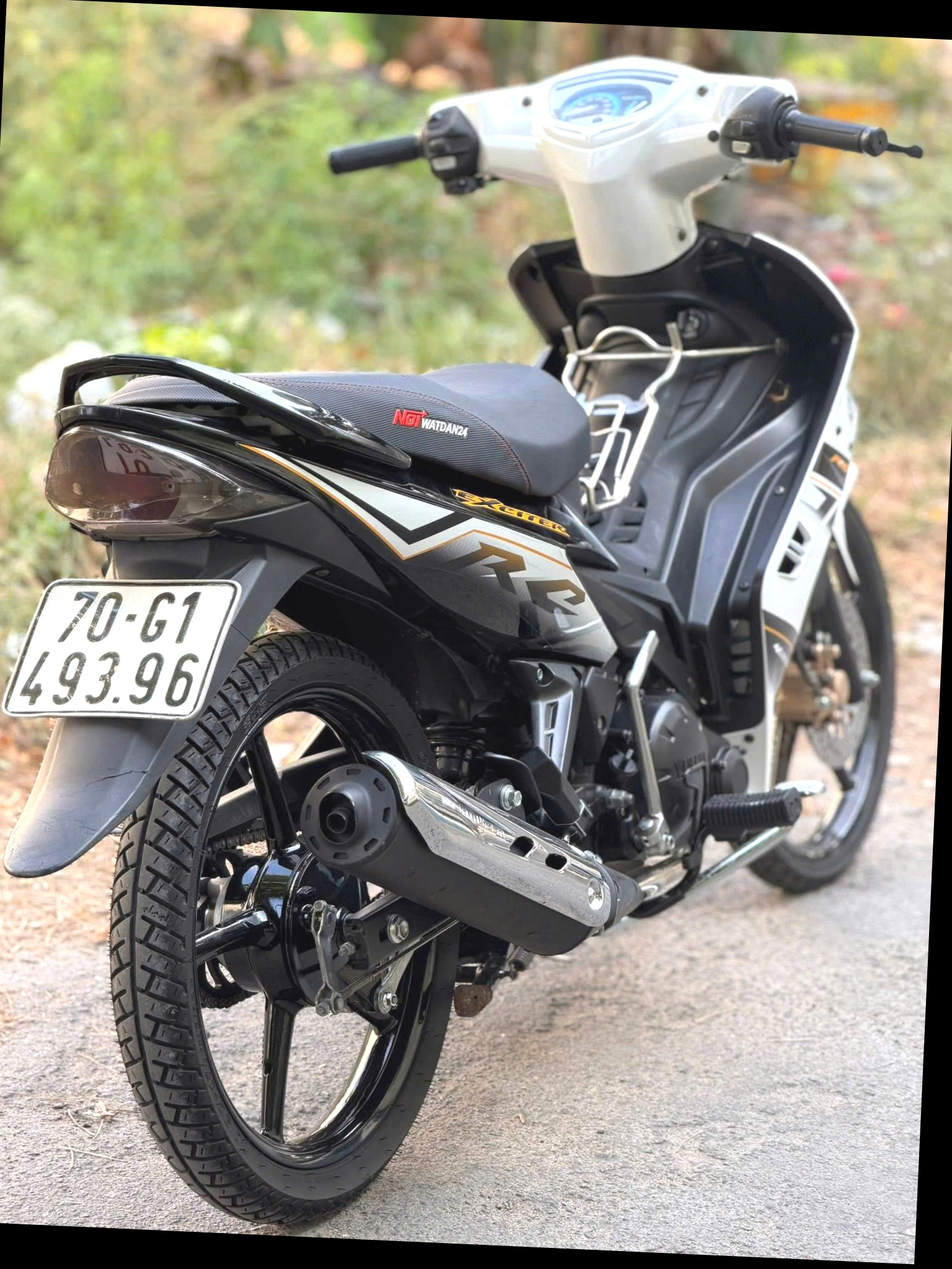Bien-so: (0, 571, 243, 721)
